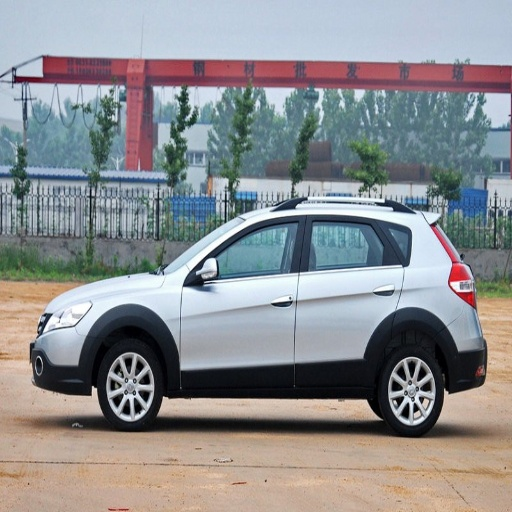back_left_door: (295, 212, 402, 383)
front_left_door: (181, 214, 304, 381)
